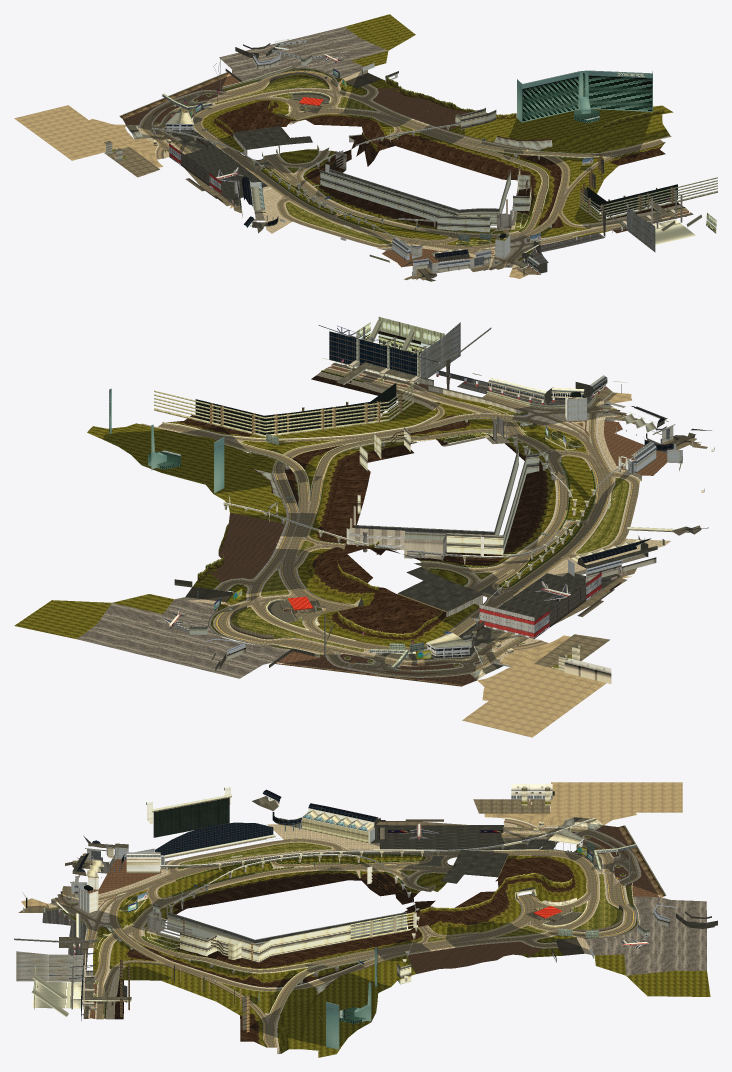
File: track-B2_C2_V2.glb
3 views of the same model, one above another, from view 1: azimuth 30°, elevation 25°; view 2: azimuth 150°, elevation 25°; view 3: azimuth 270°, elevation 25° (orthographic). The views are drawn at different scales.
Parts seen in each view (by area): view 1: B2_C2_V2; view 2: B2_C2_V2; view 3: B2_C2_V2.
Boxes of the visible parts, <box> form: B2_C2_V2: <box>14,14,717,281</box>; B2_C2_V2: <box>14,317,714,737</box>; B2_C2_V2: <box>14,782,717,1057</box>.
Size of the model in its own units: 1295 by 129 by 1379.
93 materials, 93 textured.
